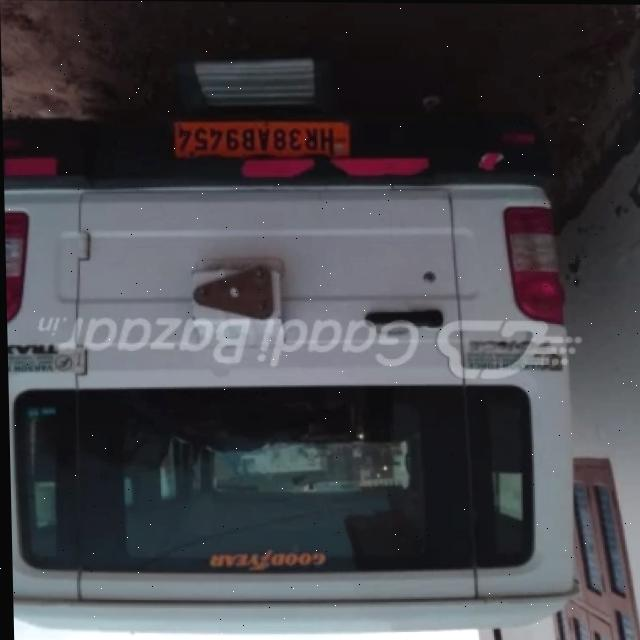plate: (172, 116, 355, 163)
